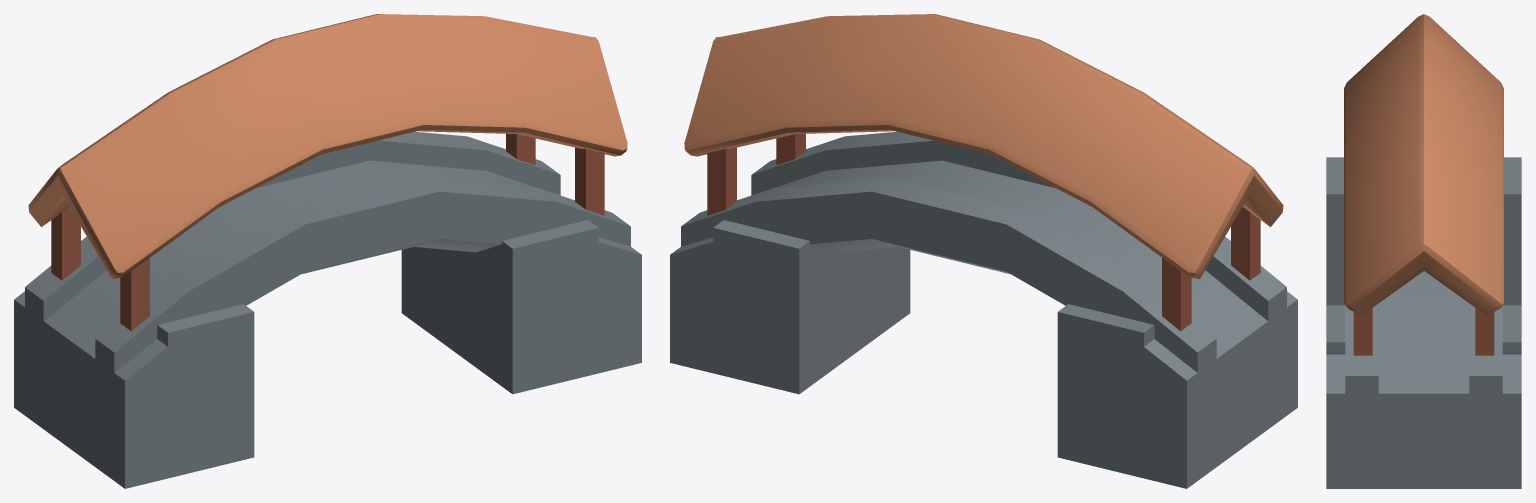
File: kaykit-bridge-roofed.glb
3 views of the same model, side by side, from view 1: azimuth 30°, elevation 25°; view 2: azimuth 150°, elevation 25°; view 3: azimuth 270°, elevation 25° (orthographic). The views are drawn at different scales.
Parts seen in each view (by area): view 1: bridge_roofed; view 2: bridge_roofed; view 3: bridge_roofed.
Boxes of the visible parts, left/top/right/bottom form: bridge_roofed: left=14, top=14, right=641, bottom=488; bridge_roofed: left=670, top=14, right=1297, bottom=488; bridge_roofed: left=1326, top=14, right=1521, bottom=488.
Size of the model in its own units: 2.09 by 1.33 by 0.7437.
